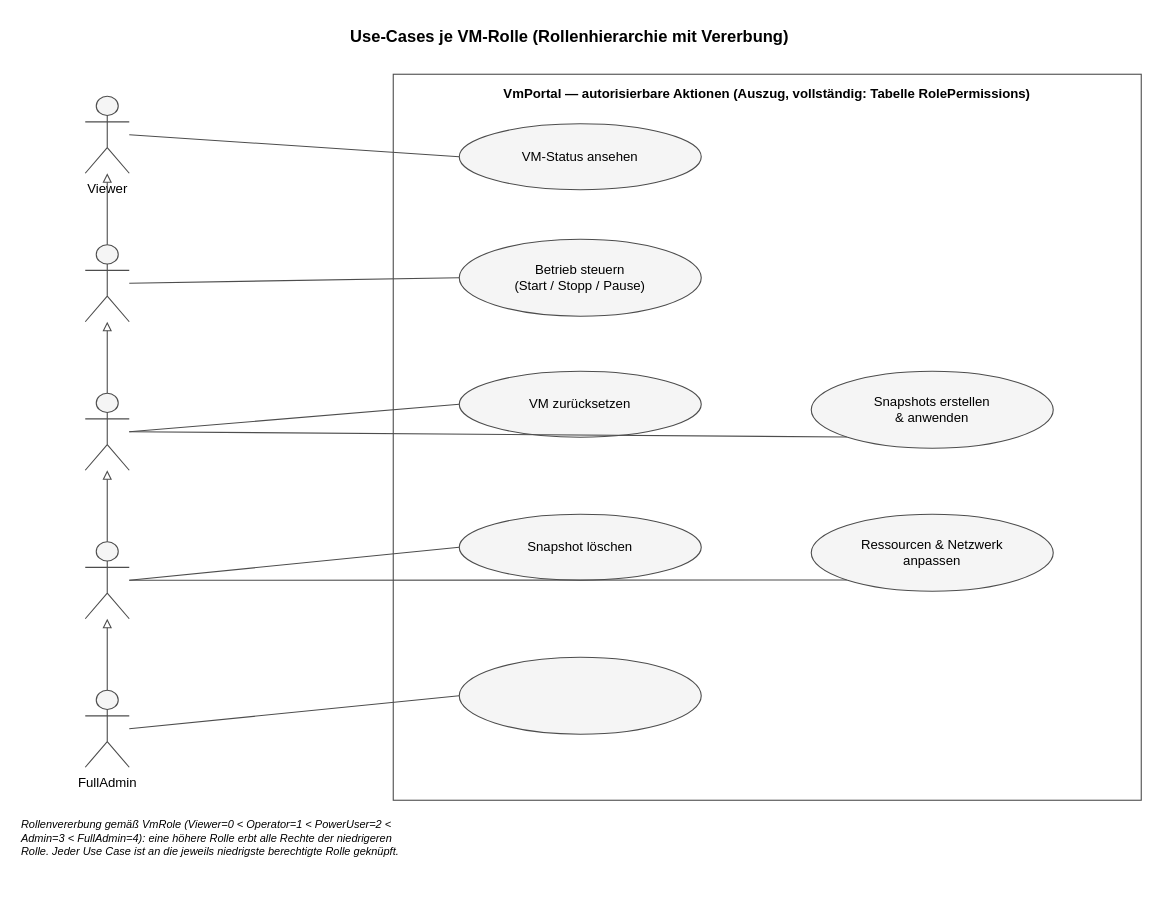
Some shapes in this 1161 by 906 pixel diagram are drawn without their labels. The box of each missing label's shape, as (x1, y1, x2, y2) in pixels:
Admin: (84, 541, 129, 619)
Export / Import / Klonen: (458, 656, 701, 734)
Operator: (84, 244, 129, 322)
PowerUser: (84, 392, 129, 470)
